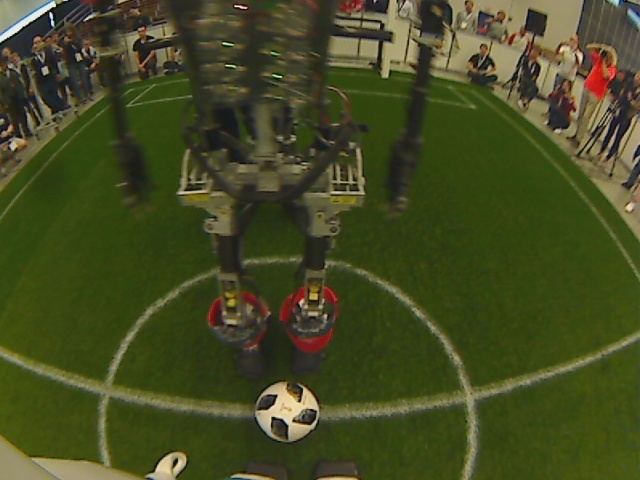ball: (251, 377, 323, 446)
